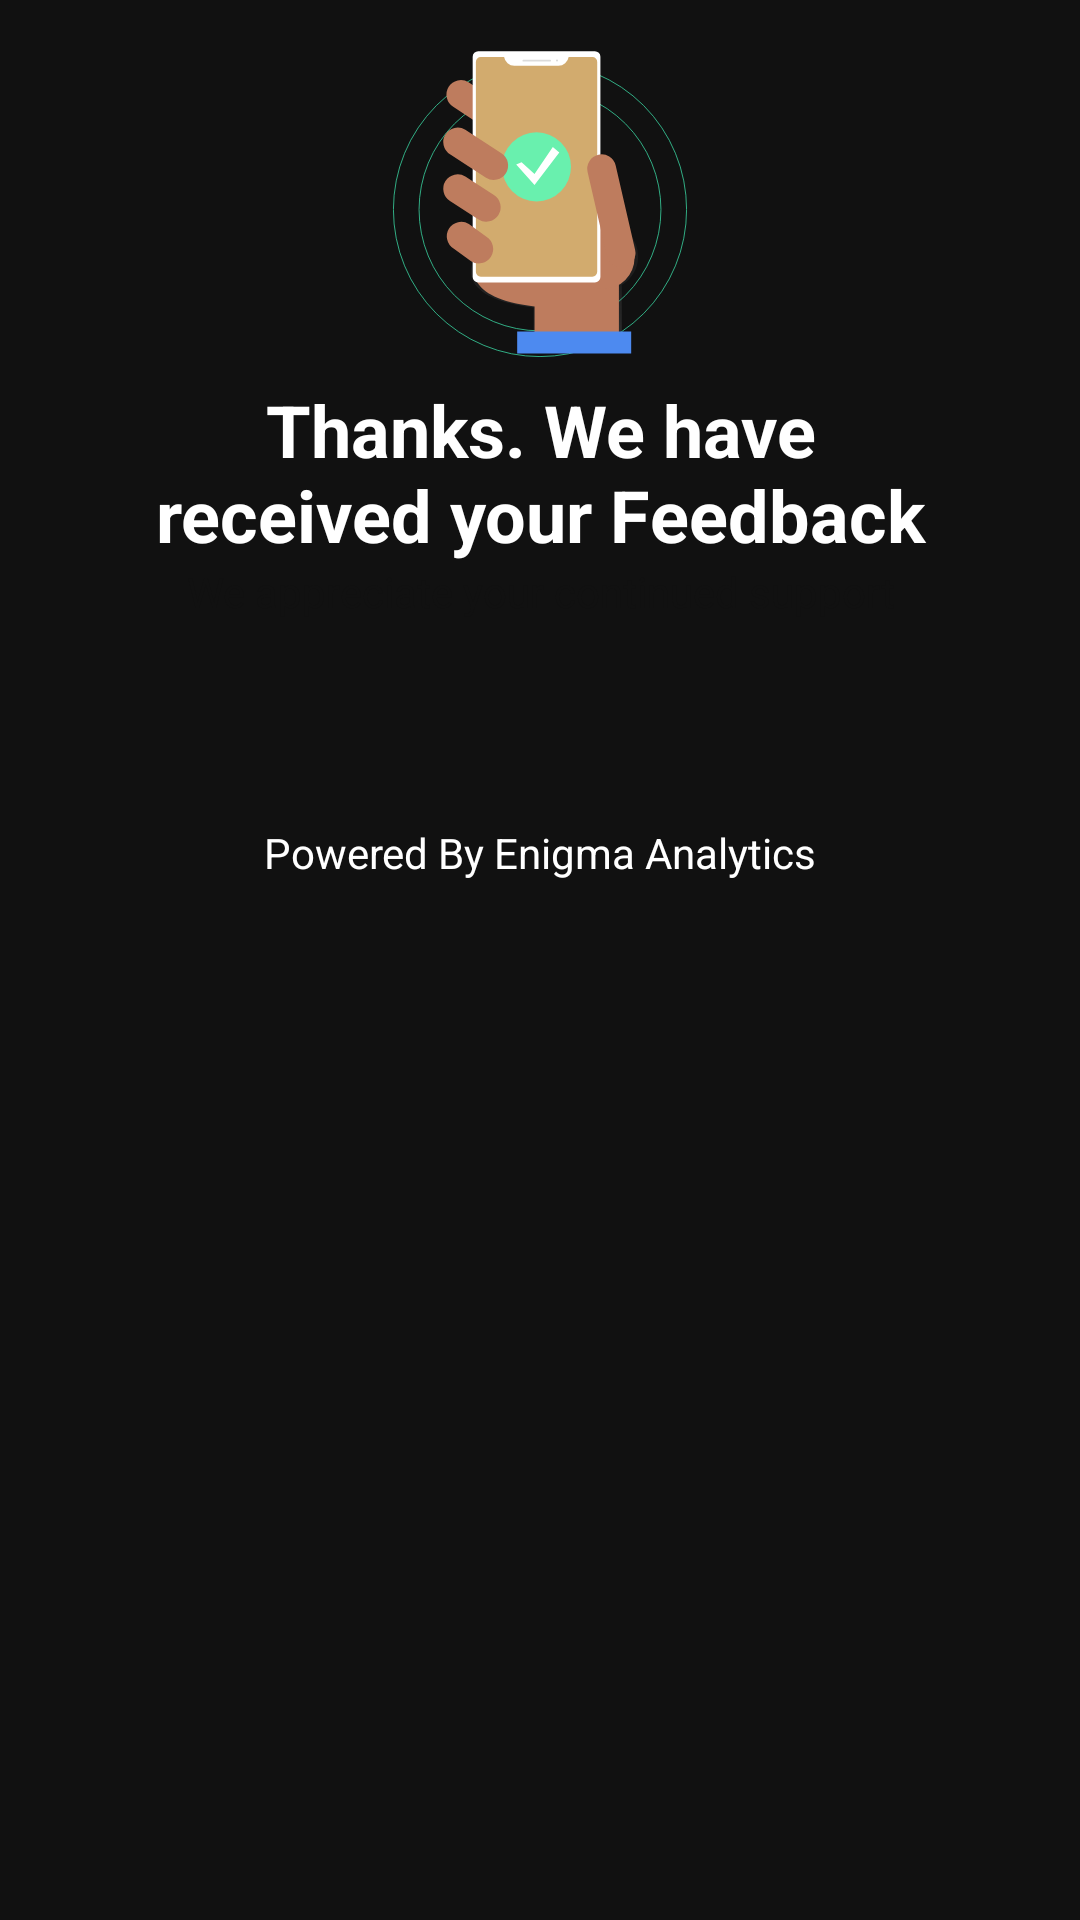

Screen size 1080 × 1920. Icon name, then its center in pixels as [x,y]:
success: [540,204]
